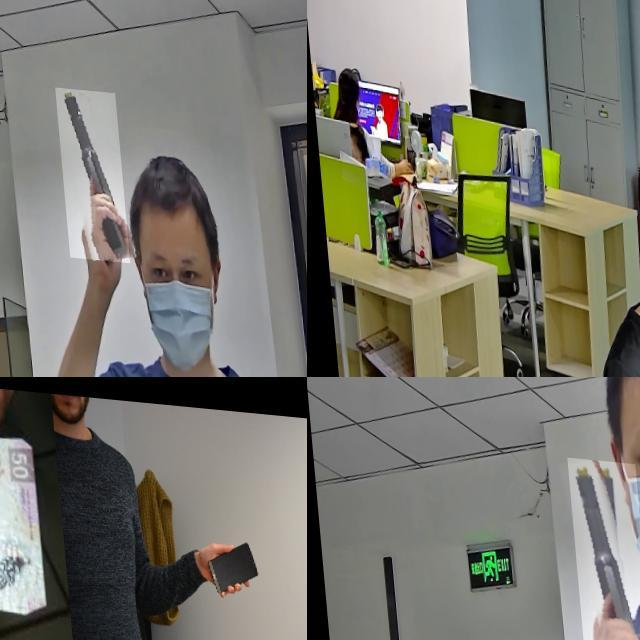gun-knife-thesis - v11 Yolov5 augmented: (562, 452, 640, 640), (51, 81, 122, 256)
